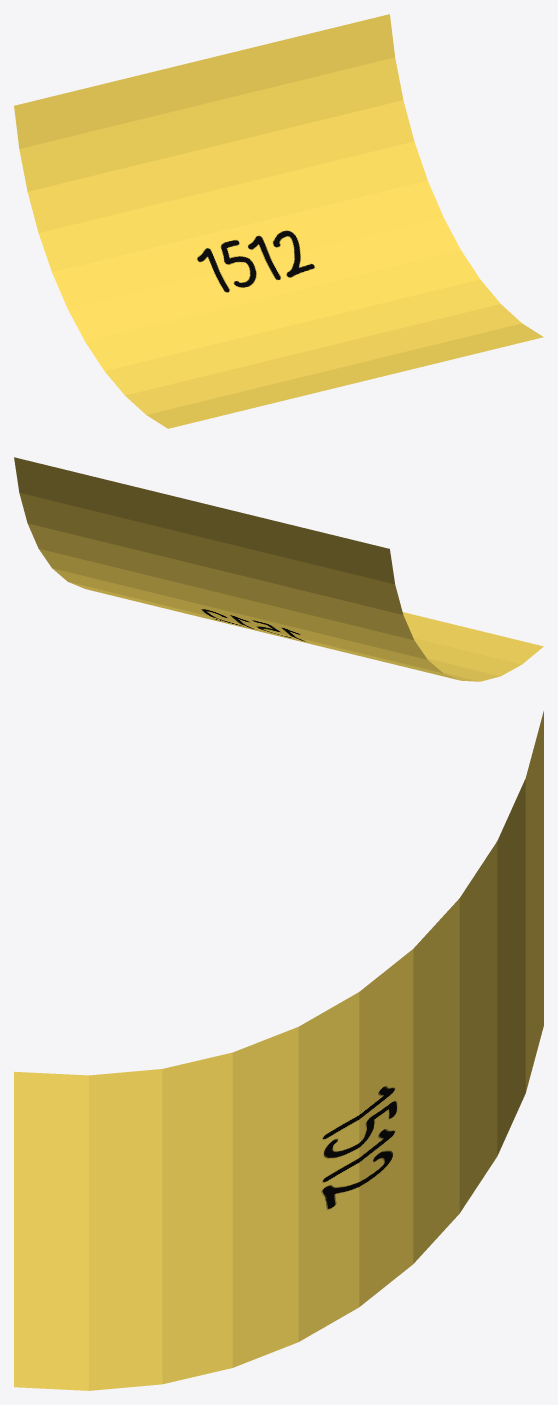
File: Senha.fbx
The picture shows the model from 3 angles, top to bottom: view 1: azimuth 30°, elevation 25°; view 2: azimuth 150°, elevation 25°; view 3: azimuth 270°, elevation 25°; orthographic projection. The views are drawn at different scales.
Visible parts, largest first — view 1: PostIt; view 2: PostIt; view 3: PostIt.
Part boxes in pixels (x1=…): PostIt: x1=14, y1=14, x2=543, y2=428; PostIt: x1=14, y1=457, x2=543, y2=681; PostIt: x1=14, y1=711, x2=543, y2=1390.
Bounding box in the file's own units: 200 × 108 × 142.
